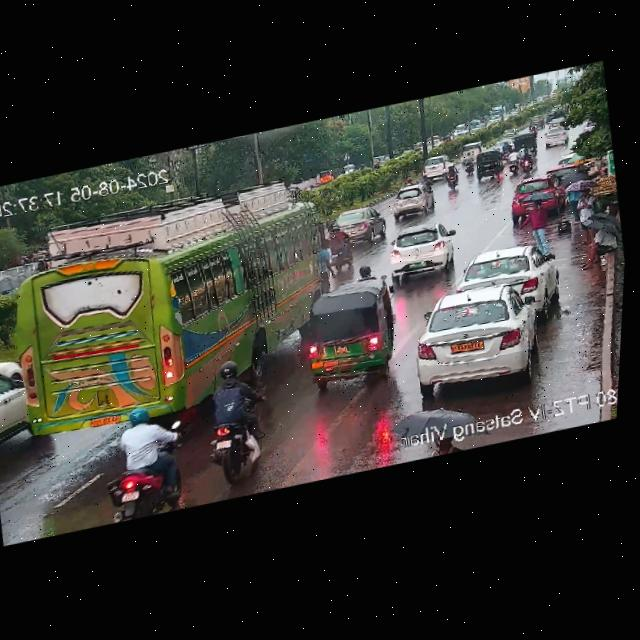bus: (0, 161, 348, 445)
car: (405, 275, 547, 393), (288, 279, 401, 400), (456, 238, 561, 314), (385, 220, 463, 289), (0, 347, 32, 460), (502, 171, 565, 222), (328, 203, 388, 248), (388, 184, 435, 221), (472, 146, 505, 183), (0, 263, 26, 302), (511, 129, 538, 162), (418, 157, 451, 181), (543, 122, 573, 148), (459, 139, 486, 163), (499, 126, 517, 139)
motorcycle: (98, 396, 204, 520), (195, 351, 284, 461), (324, 221, 358, 272), (351, 258, 383, 280), (442, 164, 466, 192), (501, 150, 524, 178), (521, 146, 535, 177), (526, 112, 546, 130), (499, 139, 513, 158), (403, 175, 416, 187)
person: (571, 217, 625, 275), (518, 195, 555, 259), (552, 155, 593, 193), (423, 428, 460, 456)
